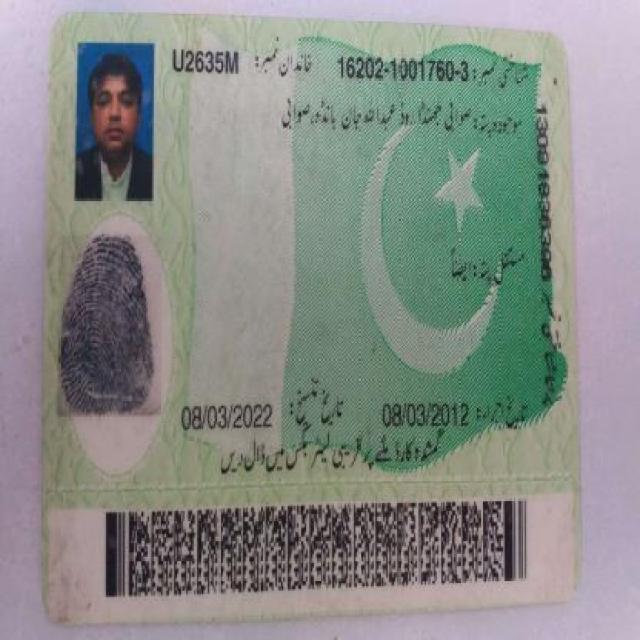Back: (42, 18, 580, 604)
